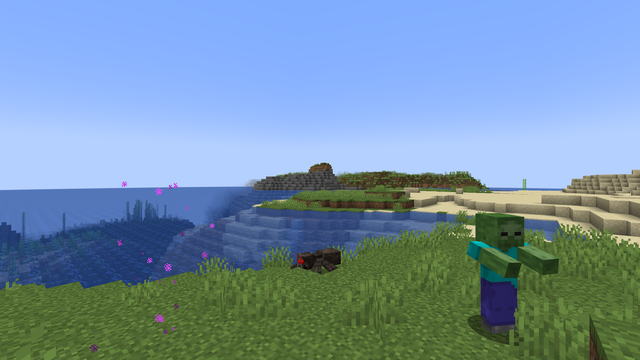araignees: (290, 244, 341, 272)
zombies: (476, 214, 521, 343)
